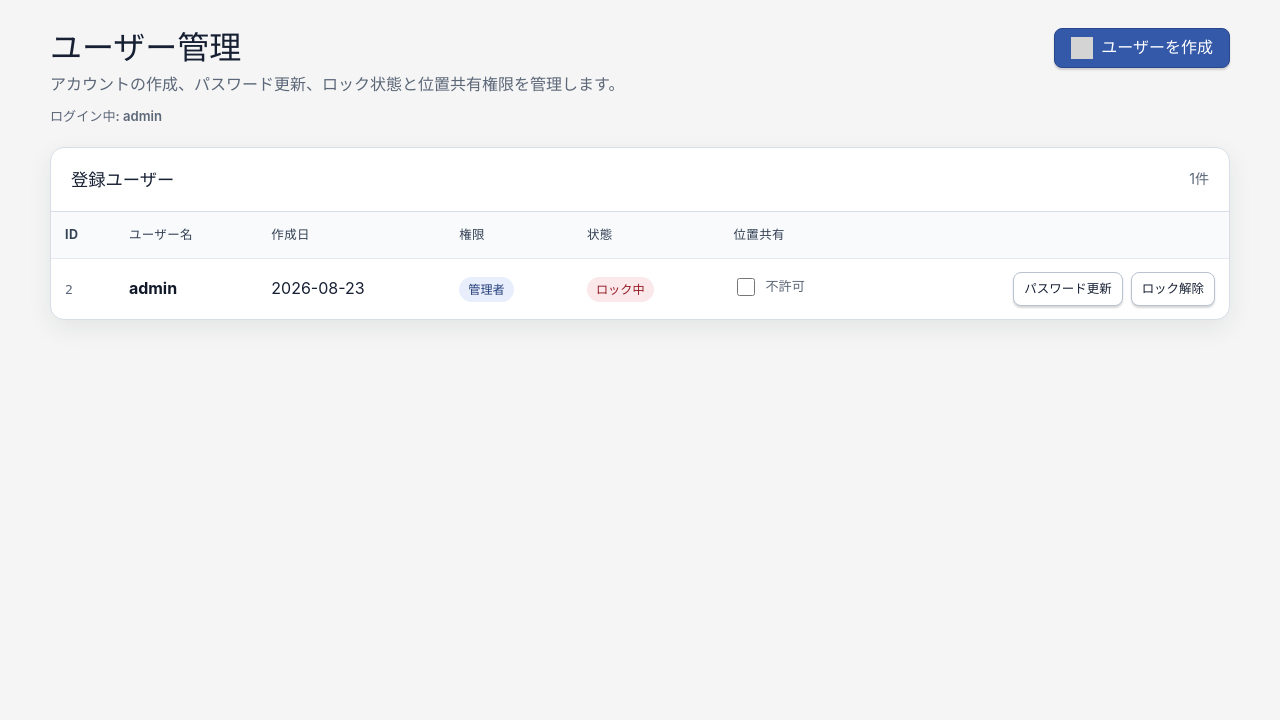
Test case: 管理操作の失敗と入力検証 › 不完全な作成入力を送信しない:
The width and height of the screenshot is (1280, 720).
Click the button with class "btn-head-image" at [1142, 48], box left=1054, top=28, right=1230, bottom=68
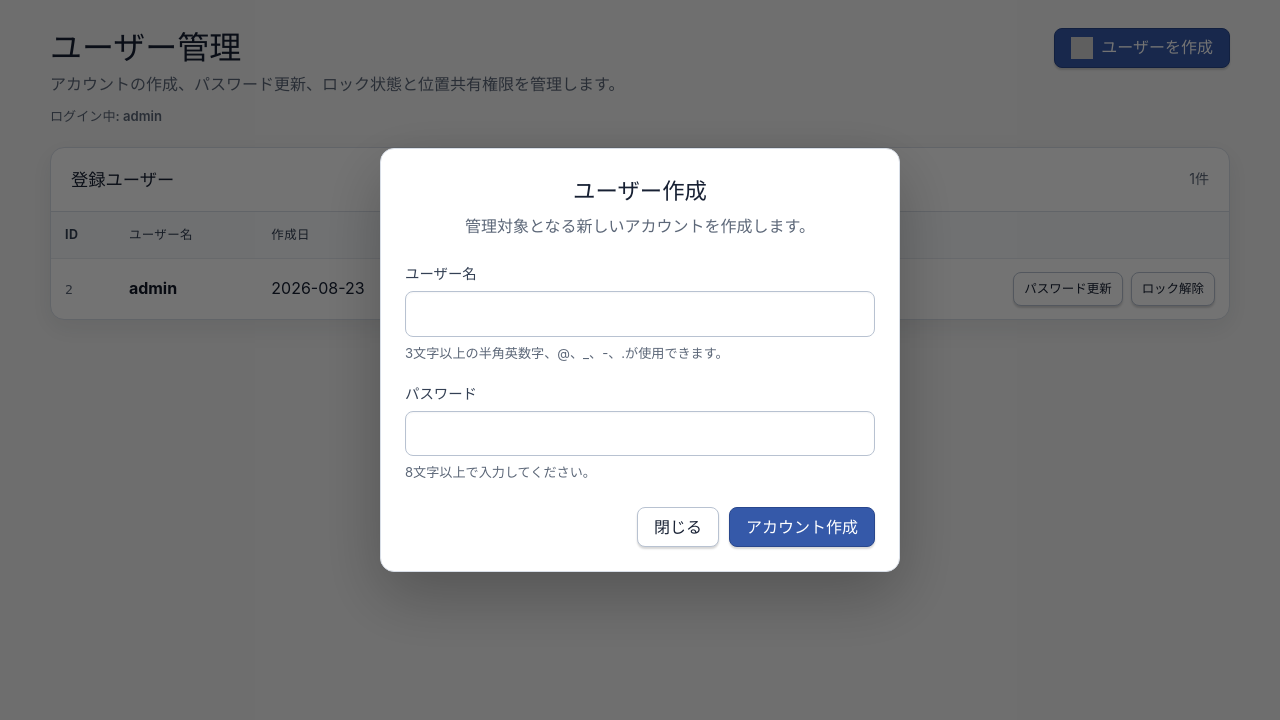
Submit the form, box left=405, top=262, right=875, bottom=547
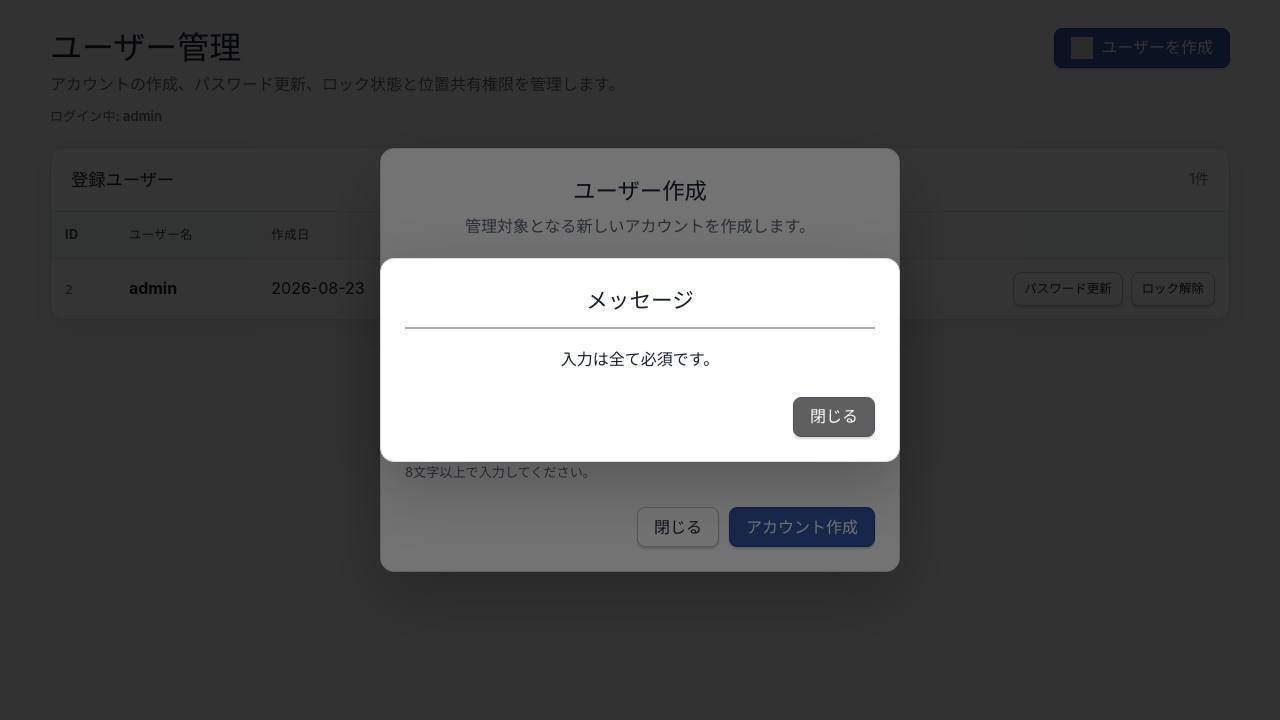
Now the text "入力は全て必須" is shown, box left=561, top=350, right=719, bottom=370
